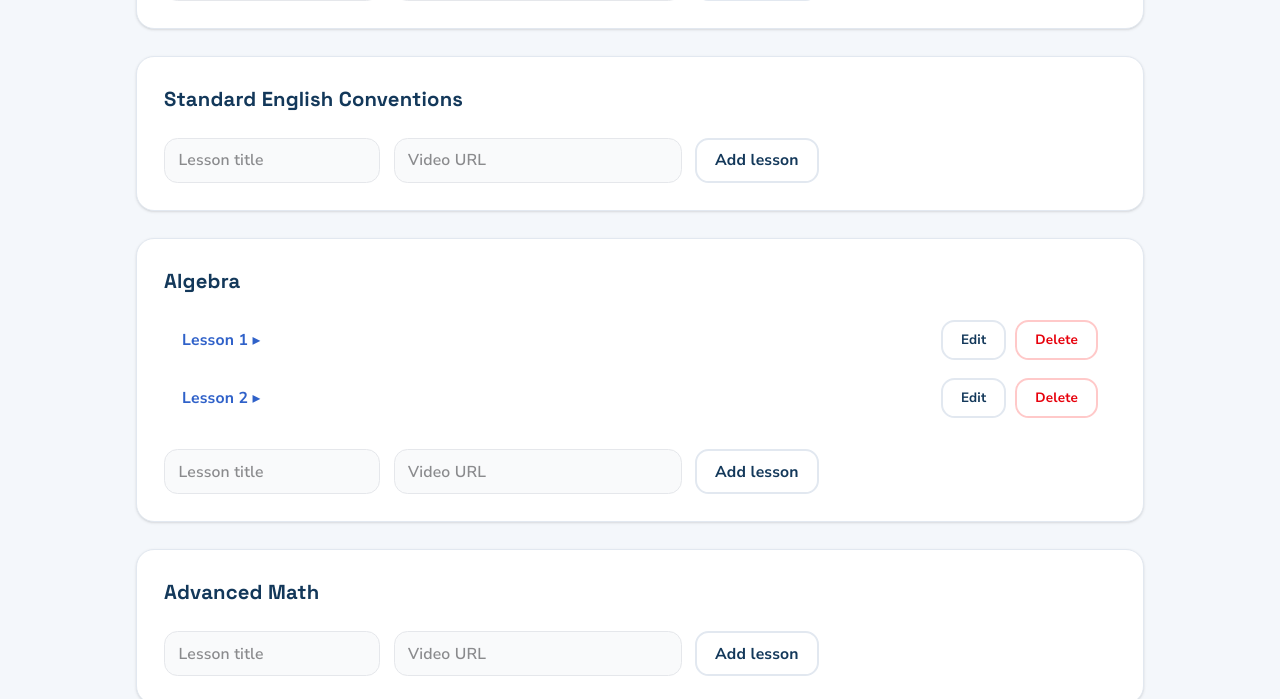
Test: TeacherCourseView › deletes lesson after confirming
(page scrolled)
expect the text "Lesson 1 ▸" is shown: met, box [182,329,261,351]
Click the 1st button "Delete" at x=1057, y=340, box [1015,320,1098,360]
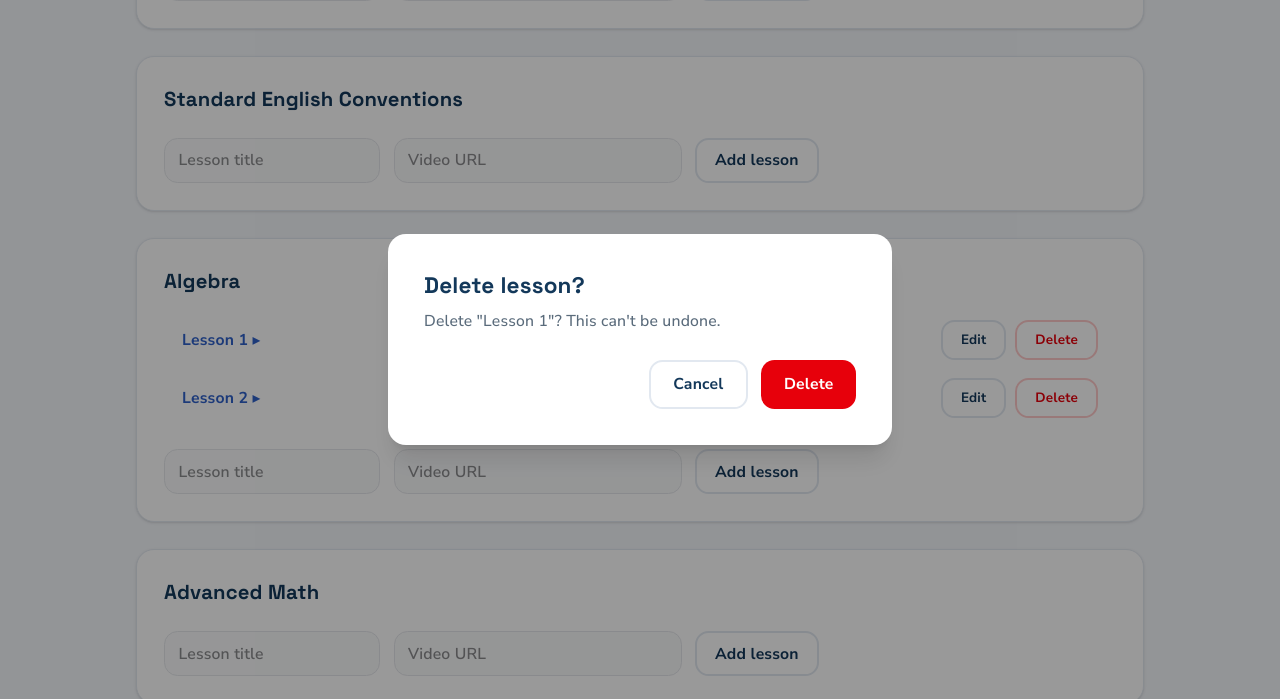
Click the button "Delete" at x=809, y=384, box [761,360,856,408]
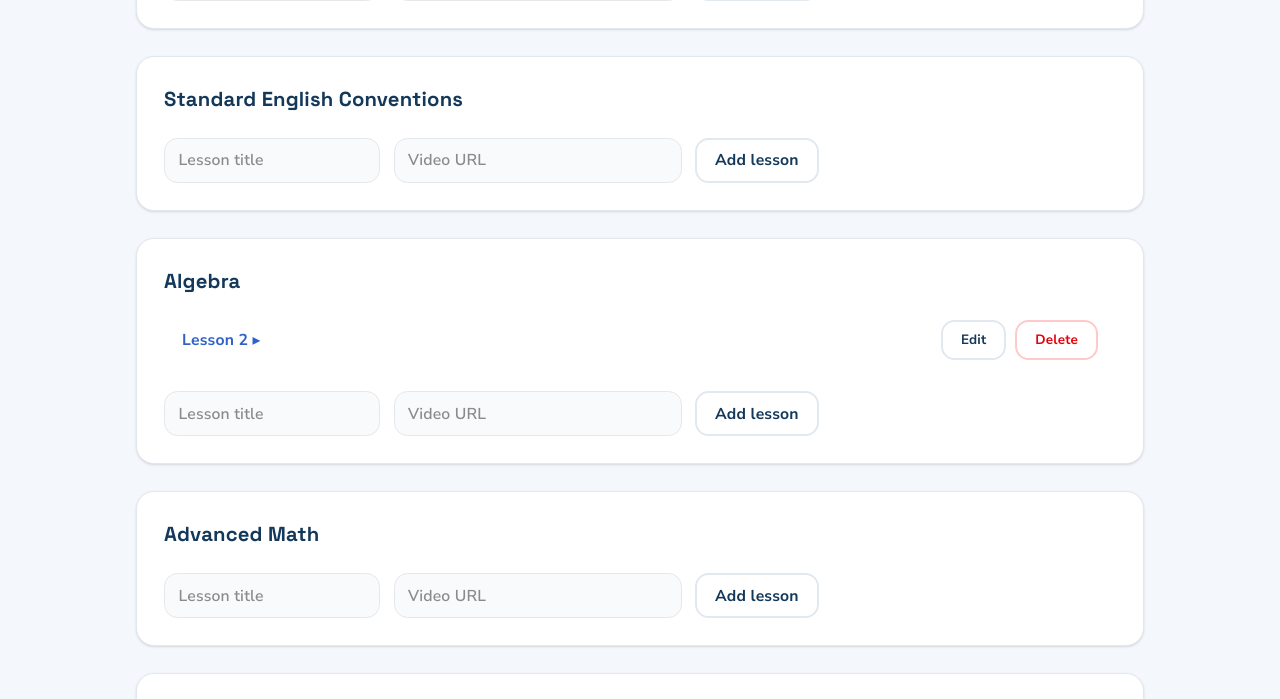
expect the text "Lesson 2 ▸" is shown: met, box [182,329,261,351]
expect the button "Lesson 1 ▸" is gone: met
expect the heading "Delete lesson?" is gone: met
